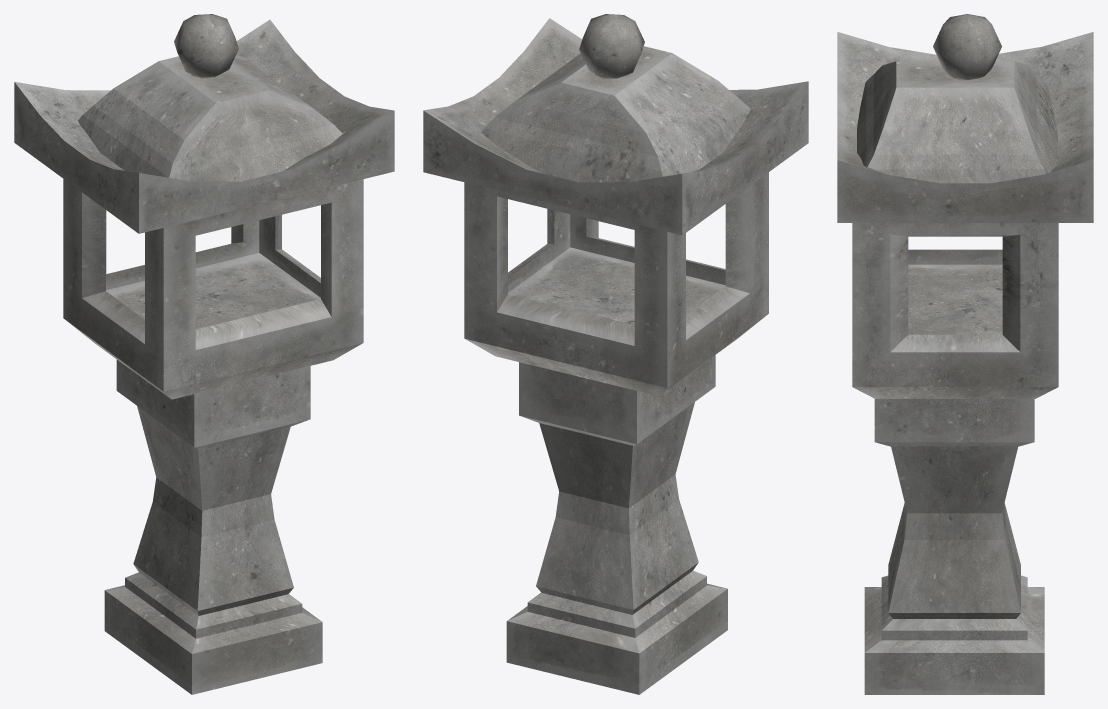
File: LinternaBambu.fbx
3 views of the same model, side by side, from view 1: azimuth 30°, elevation 25°; view 2: azimuth 150°, elevation 25°; view 3: azimuth 270°, elevation 25° (orthographic). The views are drawn at different scales.
Visible parts, largest first — view 1: Box005; view 2: Box005; view 3: Box005.
Boxes of the visible parts, left/top/right/bottom form: Box005: left=14, top=14, right=394, bottom=694; Box005: left=423, top=14, right=808, bottom=694; Box005: left=837, top=14, right=1093, bottom=694.
Bounding box in the file's own units: 52.64 × 124 × 44.4.
2 materials, 2 textured.
